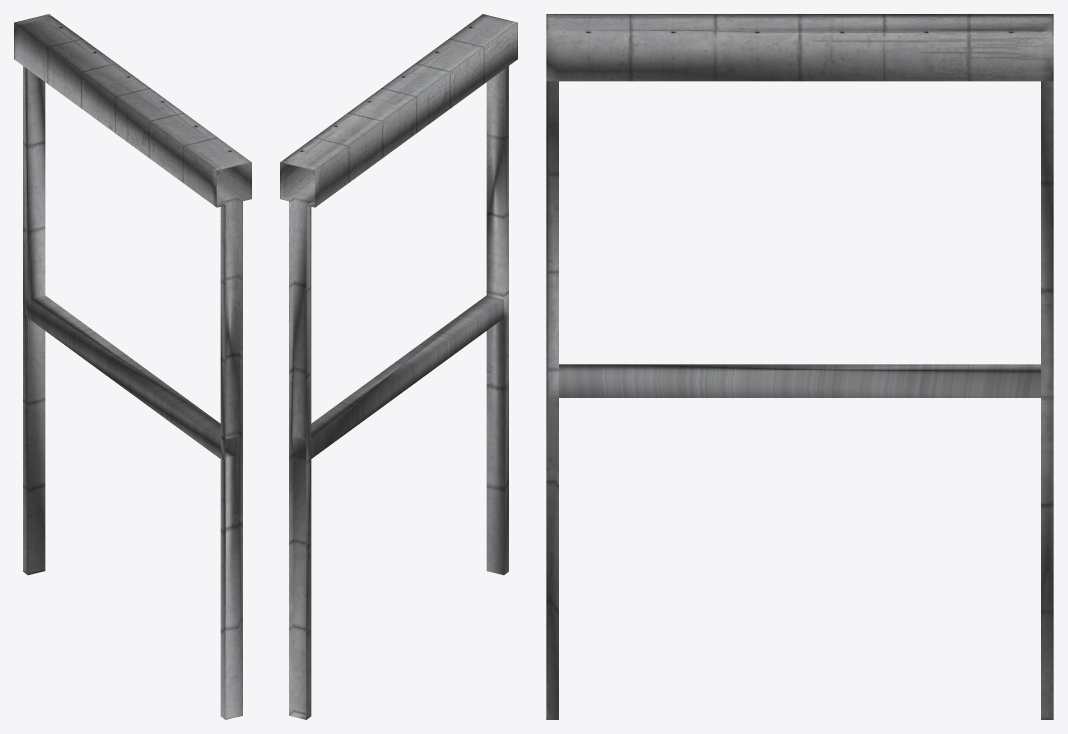
File: Handrails.fbx
The picture shows the model from 3 angles, left to right: view 1: azimuth 30°, elevation 25°; view 2: azimuth 150°, elevation 25°; view 3: azimuth 270°, elevation 25°; orthographic projection. The views are drawn at different scales.
Visible parts, largest first — view 1: Cube.002; view 2: Cube.002; view 3: Cube.002.
Boxes of the visible parts, left/top/right/bottom form: Cube.002: left=14, top=14, right=251, bottom=719; Cube.002: left=280, top=14, right=517, bottom=719; Cube.002: left=546, top=14, right=1053, bottom=719.
Bounding box in the file's own units: 5 × 75 × 50.
